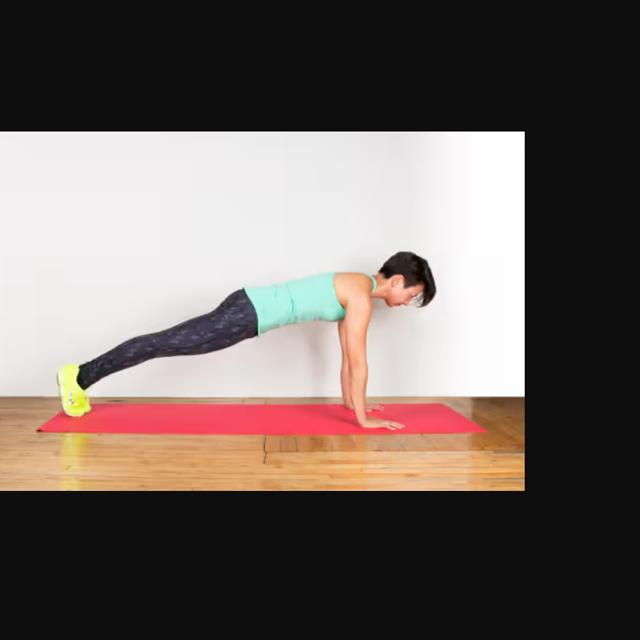Plank_Pose: (48, 248, 450, 436)
